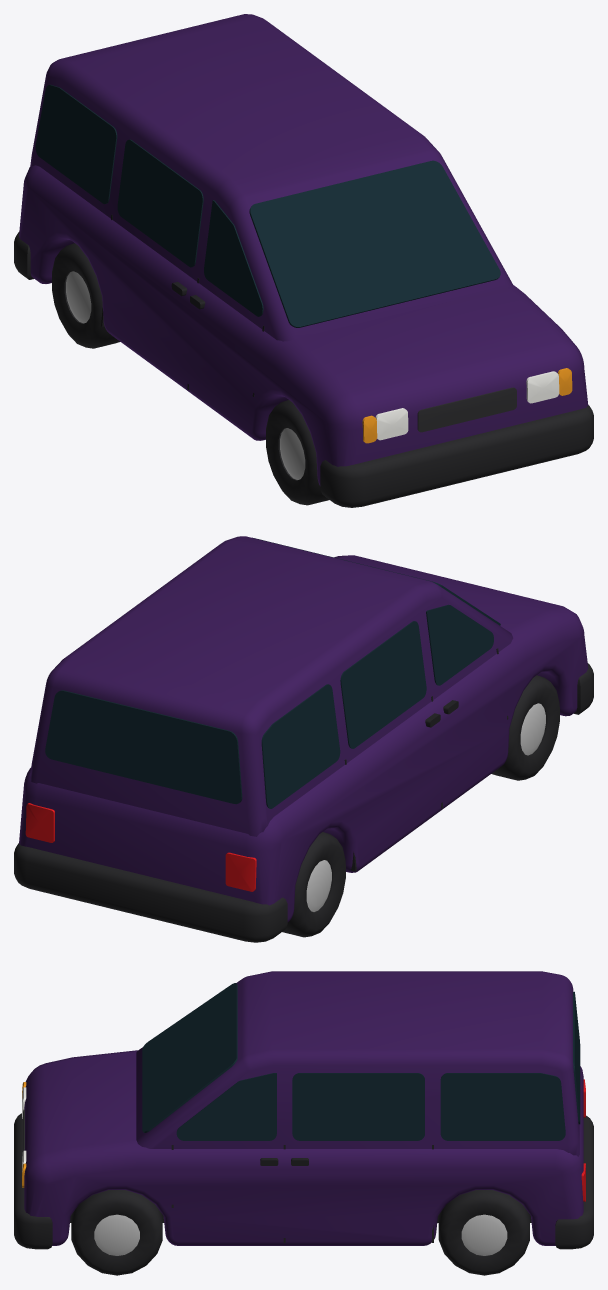
Rendered from car_van.glb.
The picture shows the model from 3 angles, top to bottom: view 1: azimuth 30°, elevation 25°; view 2: azimuth 150°, elevation 25°; view 3: azimuth 270°, elevation 25°; orthographic projection. The views are drawn at different scales.
Parts seen in each view (by area): view 1: body, wheel_rear_right, wheel_front_right; view 2: body, wheel_front_right, wheel_rear_right; view 3: body, wheel_rear_left, wheel_front_left.
Boxes of the visible parts, x1,y1,x2,y2 form: body: (14,14,593,507); wheel_rear_right: (52,243,120,348); wheel_front_right: (266,400,328,505); body: (14,536,593,942); wheel_front_right: (491,675,559,780); wheel_rear_right: (282,832,345,937); body: (14,971,593,1249); wheel_rear_left: (438,1190,529,1275); wheel_front_left: (71,1190,162,1275).
Bounding box in the file's own units: 2 × 1.85 × 4.5.
